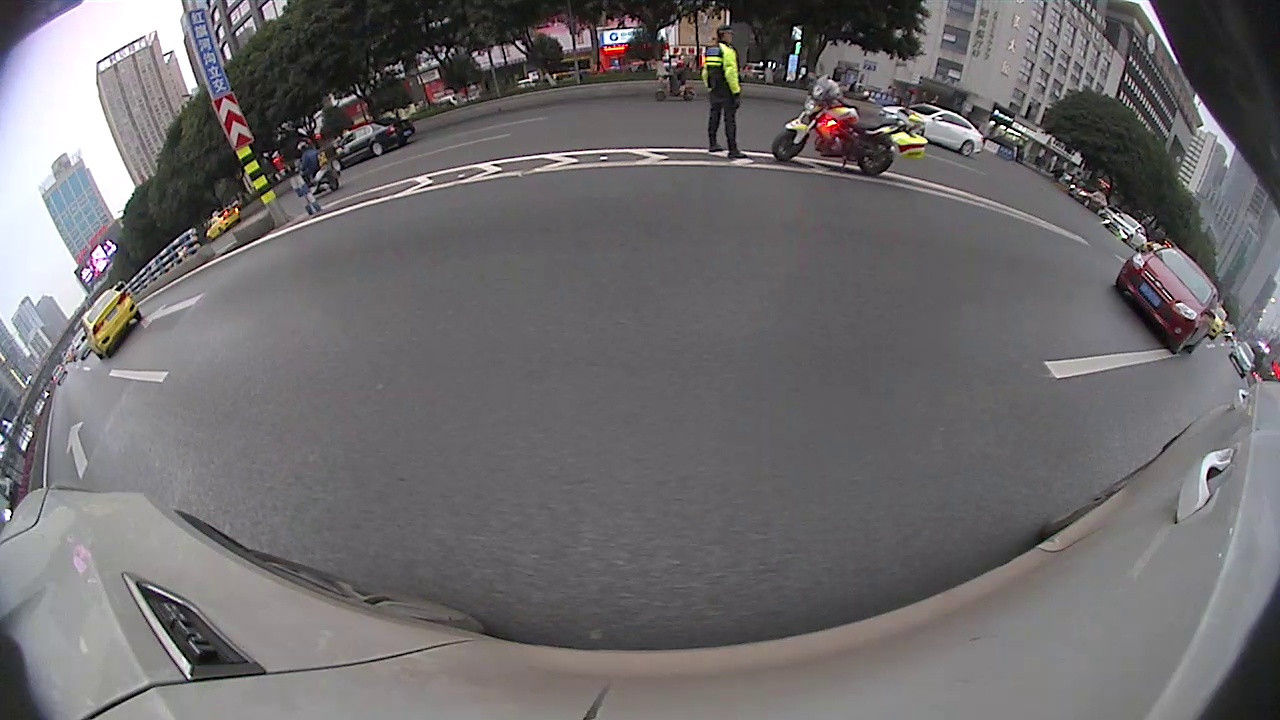car: (1114, 245, 1221, 356), (879, 103, 985, 157), (331, 117, 416, 174), (79, 287, 142, 360)
front: (329, 159, 340, 171)
person: (703, 32, 737, 157)
rear: (962, 140, 973, 156), (371, 141, 382, 155)
rider: (771, 74, 927, 178), (296, 140, 340, 197), (653, 58, 697, 108)
